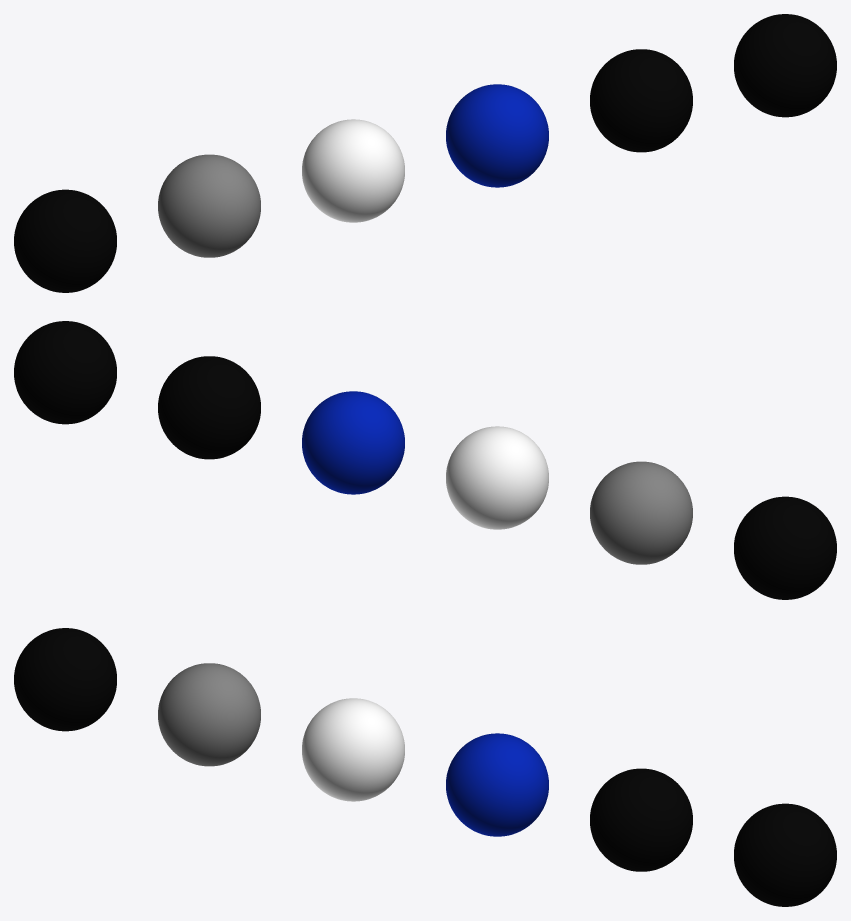
Rendered from belly.FBX.
3 views of the same model, one above another, from view 1: azimuth 30°, elevation 25°; view 2: azimuth 150°, elevation 25°; view 3: azimuth 330°, elevation 25° (orthographic).
Parts seen in each view (by area): view 1: Sphere002, Sphere005, Sphere001, Sphere006, Sphere003, Sphere004; view 2: Sphere002, Sphere005, Sphere001, Sphere006, Sphere003, Sphere004; view 3: Sphere002, Sphere005, Sphere001, Sphere006, Sphere003, Sphere004.
Part boxes in pixels (x1,y1,x2,y2): Sphere002: [158, 154, 260, 257]; Sphere005: [590, 49, 692, 152]; Sphere001: [14, 189, 116, 292]; Sphere006: [734, 14, 836, 117]; Sphere003: [302, 119, 404, 222]; Sphere004: [446, 84, 548, 187]; Sphere002: [590, 461, 692, 564]; Sphere005: [158, 356, 260, 459]; Sphere001: [734, 496, 836, 599]; Sphere006: [14, 321, 116, 424]; Sphere003: [446, 426, 548, 529]; Sphere004: [302, 391, 404, 494]; Sphere002: [158, 663, 260, 766]; Sphere005: [590, 768, 692, 871]; Sphere001: [14, 628, 116, 731]; Sphere006: [734, 803, 836, 906]; Sphere003: [302, 698, 404, 801]; Sphere004: [446, 733, 548, 836].
Size of what is drawn, in the model's own units: 204 by 22.6 by 22.55.
